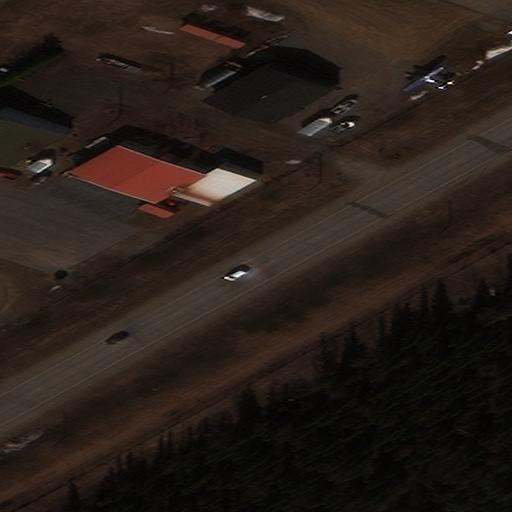Small Civil Transport: (401, 66, 447, 90)
